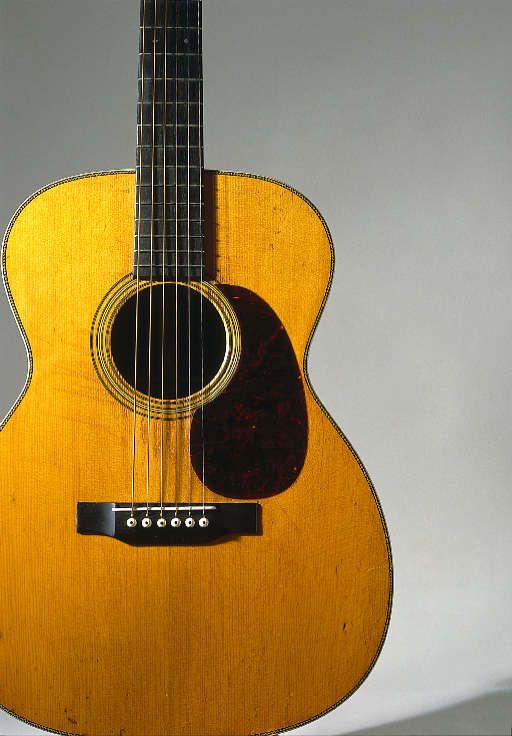guitar: (1, 1, 396, 736)
